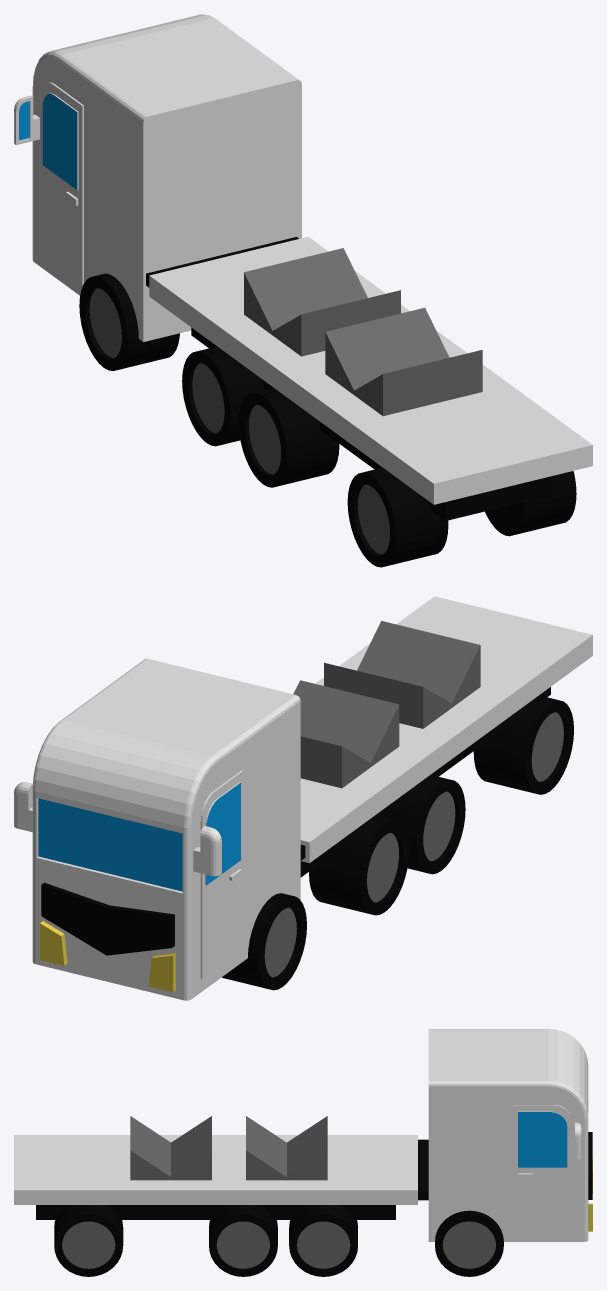
The model's file is truck3.fbx.
3 renders of one model, top to bottom at view 1: azimuth 30°, elevation 25°; view 2: azimuth 150°, elevation 25°; view 3: azimuth 270°, elevation 25°, orthographic. The views are drawn at different scales.
Parts seen in each view (by area): view 1: Cube.003, Cube.002, Cube.001, Cube, Cylinder.009, Cylinder.008, Cylinder.004, Cylinder.005, Cylinder.010; view 2: Cube.003, Cube.002, Cube.001, Cube, Cylinder.009, Cylinder.005, Cylinder.008, Cylinder.004; view 3: Cube.003, Cube.002, Cylinder.010, Cube, Cube.001, Cylinder.007, Cylinder.006, Cylinder.003.
Boxes of the visible parts, x1=… form: Cube.003: x1=14, y1=14, x2=301, y2=341; Cube.002: x1=146, y1=236, x2=592, y2=520; Cube.001: x1=325, y1=307, x2=482, y2=416; Cube: x1=244, y1=248, x2=400, y2=356; Cylinder.009: x1=347, y1=467, x2=448, y2=567; Cylinder.008: x1=238, y1=388, x2=339, y2=487; Cylinder.004: x1=79, y1=273, x2=179, y2=370; Cylinder.005: x1=182, y1=346, x2=265, y2=446; Cylinder.010: x1=485, y1=471, x2=576, y2=536; Cube.003: x1=14, y1=658, x2=300, y2=1000; Cube.002: x1=300, y1=596, x2=592, y2=877; Cube.001: x1=324, y1=621, x2=480, y2=728; Cube: x1=293, y1=680, x2=399, y2=788; Cylinder.009: x1=473, y1=695, x2=573, y2=794; Cylinder.005: x1=309, y1=816, x2=409, y2=915; Cylinder.008: x1=383, y1=775, x2=465, y2=874; Cylinder.004: x1=222, y1=893, x2=306, y2=990; Cube.003: x1=428, y1=1029, x2=592, y2=1241; Cube.002: x1=14, y1=1135, x2=428, y2=1219; Cylinder.010: x1=54, y1=1205, x2=123, y2=1276; Cube: x1=246, y1=1116, x2=327, y2=1180; Cube.001: x1=130, y1=1116, x2=211, y2=1180; Cylinder.007: x1=209, y1=1205, x2=277, y2=1276; Cylinder.006: x1=289, y1=1205, x2=357, y2=1276; Cylinder.003: x1=435, y1=1210, x2=503, y2=1276.
Bounding box in the file's own units: 445 × 552 × 1519.
